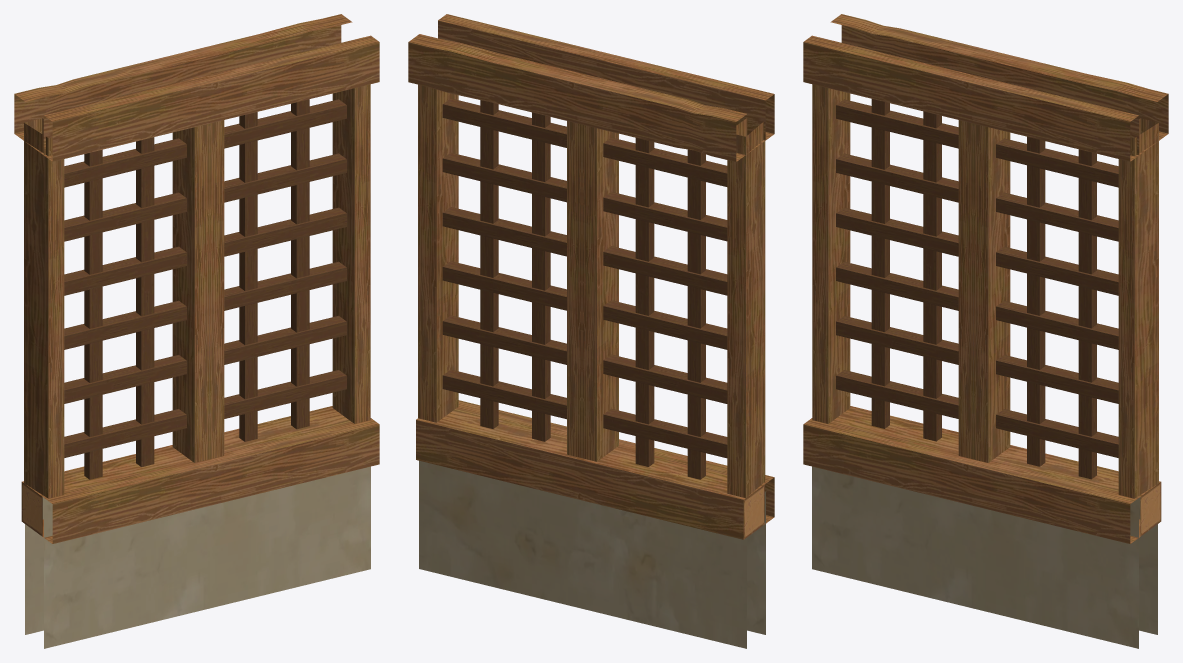
The model's file is Wall_Plaster_WoodGrid.glb.
3 renders of one model, left to right at view 1: azimuth 30°, elevation 25°; view 2: azimuth 150°, elevation 25°; view 3: azimuth 330°, elevation 25°, orthographic.
Parts seen in each view (by area): view 1: Wall_Plaster_WoodGrid; view 2: Wall_Plaster_WoodGrid; view 3: Wall_Plaster_WoodGrid.
Boxes of the visible parts, bbox=[...] form: Wall_Plaster_WoodGrid: bbox=[14, 14, 379, 648]; Wall_Plaster_WoodGrid: bbox=[408, 14, 774, 648]; Wall_Plaster_WoodGrid: bbox=[803, 14, 1168, 648].
Size of the model in its own units: 2 by 3.12 by 0.4065.
Materials: 2 (2 with a texture image).
